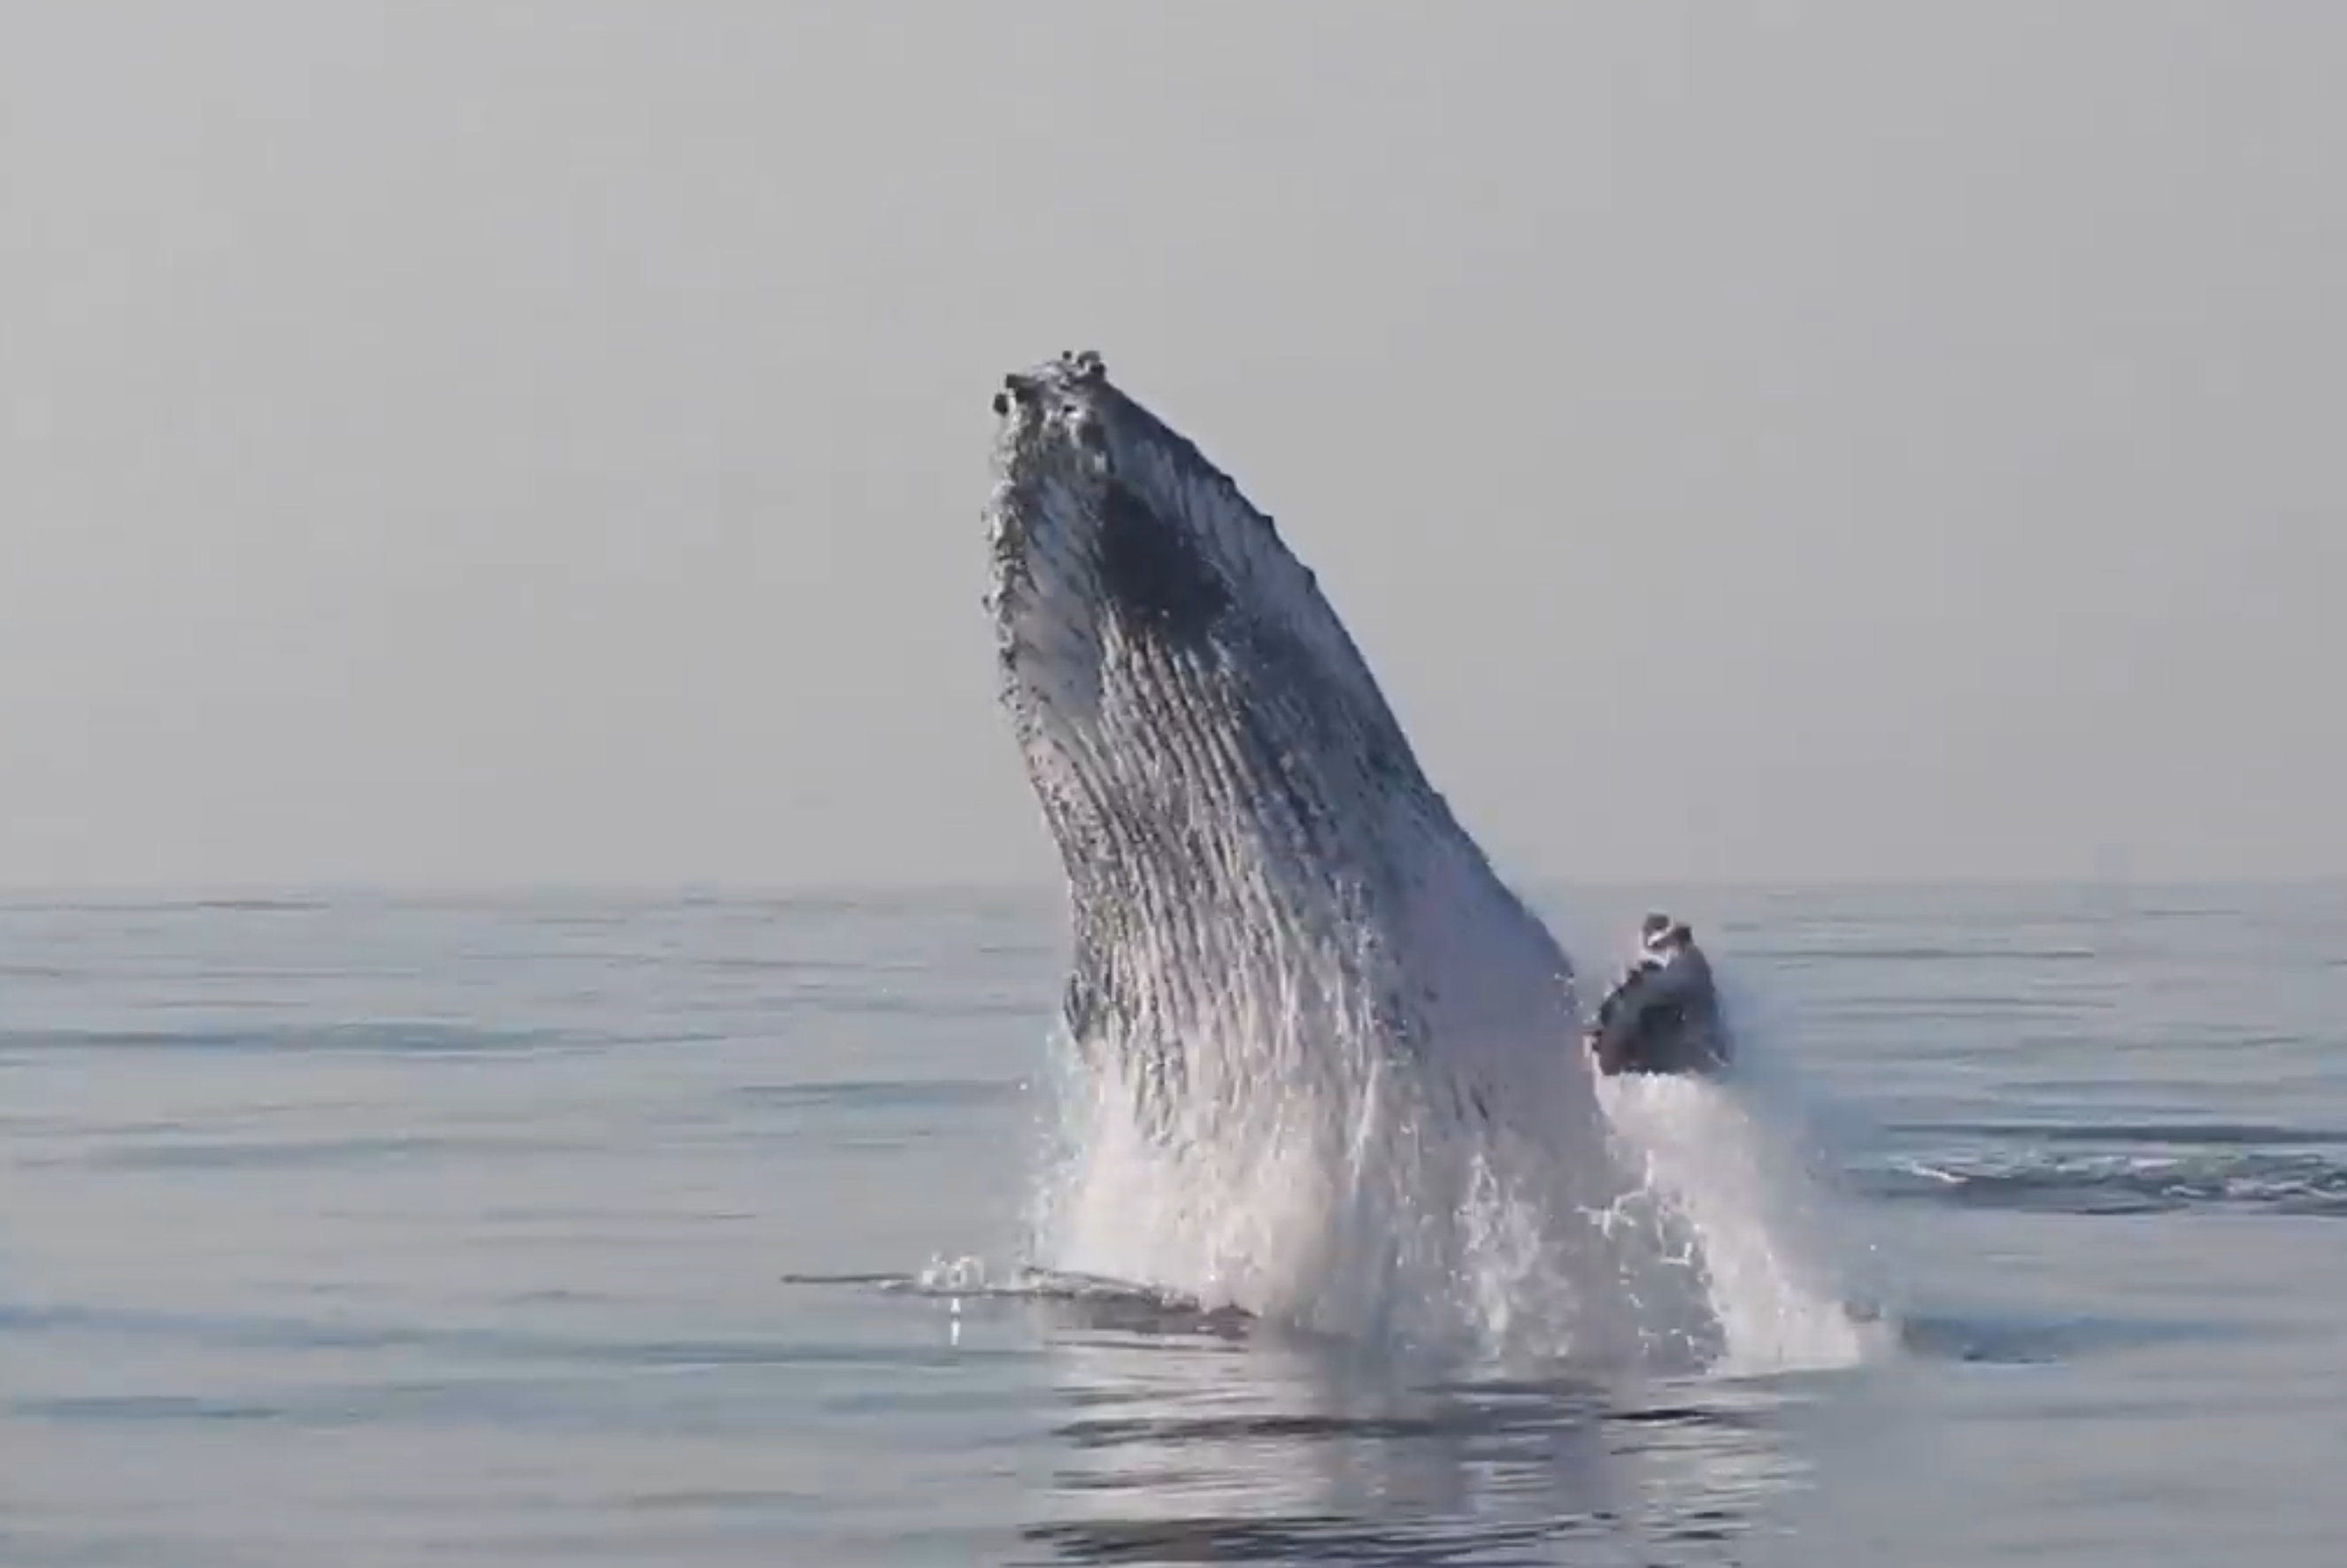humpback: (980, 354, 1705, 1276)
